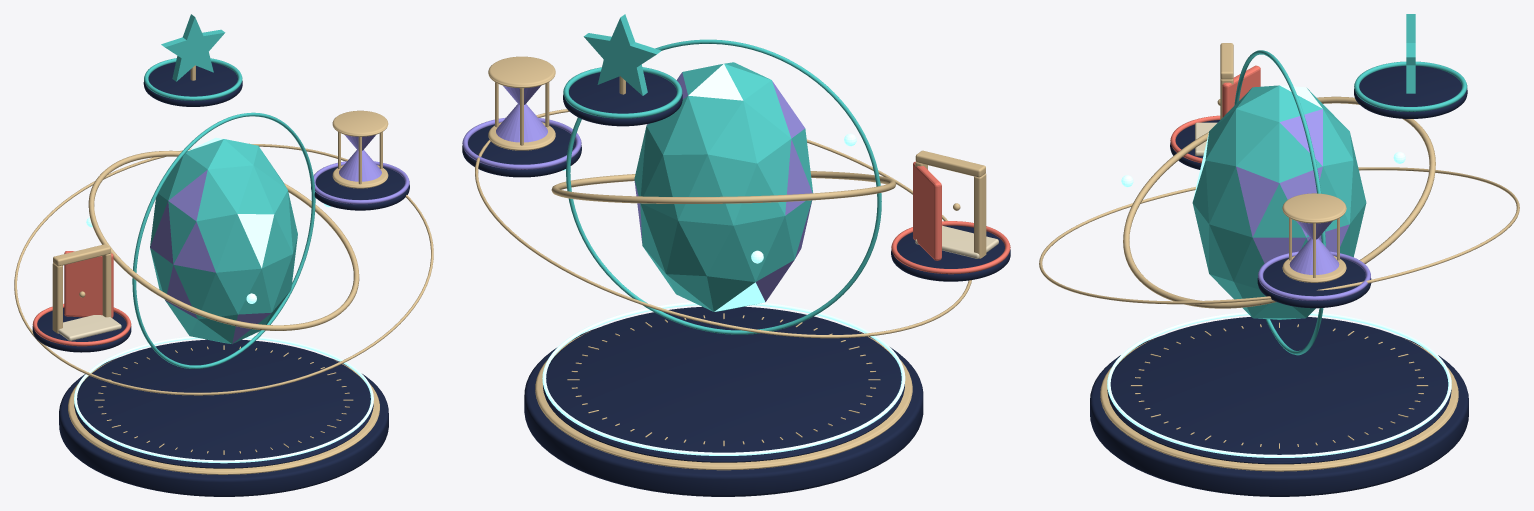
Rendered from story-atlas.glb.
The picture shows the model from 3 angles, left to right: view 1: azimuth 30°, elevation 25°; view 2: azimuth 150°, elevation 25°; view 3: azimuth 270°, elevation 25°; orthographic projection. The views are drawn at different scales.
Parts seen in each view (by area): view 1: StoryAtlas_Atlas_Midnight, Mindstone_Core, StoryAtlas_Atlas_Champagne, Avoidance_Atlas_Coral, Meridian_orbit, Perfectionism_base, Perfectionism_Atlas_Jade, StoryAtlas_Atlas_Light, Procrastination_Atlas_Champagne, Procrastination_base, Avoidance_Atlas_Champagne, Procrastination_Atlas_Lilac (+2 smaller); view 2: StoryAtlas_Atlas_Midnight, Mindstone_Core, StoryAtlas_Atlas_Champagne, Perfectionism_base, Meridian_orbit, Perfectionism_Atlas_Jade, Avoidance_Atlas_Coral, StoryAtlas_Atlas_Light, Procrastination_Atlas_Champagne, Procrastination_base, Avoidance_base, Procrastination_Atlas_Lilac (+2 smaller); view 3: StoryAtlas_Atlas_Midnight, Mindstone_Core, StoryAtlas_Atlas_Champagne, Perfectionism_base, StoryAtlas_Atlas_Light, Procrastination_base, Procrastination_Atlas_Champagne, Procrastination_Atlas_Lilac, Perfectionism_Atlas_Jade, Meridian_orbit, Avoidance_Atlas_Coral, Avoidance_Atlas_Champagne (+1 smaller).
Part boxes in pixels (x1=…): StoryAtlas_Atlas_Midnight: x1=59, y1=339, x2=388, y2=496; Mindstone_Core: x1=150, y1=137, x2=297, y2=343; StoryAtlas_Atlas_Champagne: x1=14, y1=143, x2=433, y2=474; Avoidance_Atlas_Coral: x1=32, y1=251, x2=131, y2=346; Meridian_orbit: x1=132, y1=112, x2=315, y2=368; Perfectionism_base: x1=143, y1=62, x2=242, y2=106; Perfectionism_Atlas_Jade: x1=144, y1=14, x2=242, y2=100; StoryAtlas_Atlas_Light: x1=74, y1=203, x2=373, y2=463; Procrastination_Atlas_Champagne: x1=332, y1=110, x2=388, y2=188; Procrastination_base: x1=311, y1=167, x2=409, y2=210; Avoidance_Atlas_Champagne: x1=52, y1=244, x2=111, y2=333; Procrastination_Atlas_Lilac: x1=313, y1=134, x2=409, y2=204; StoryAtlas_Atlas_Midnight: x1=524, y1=306, x2=923, y2=496; Mindstone_Core: x1=634, y1=62, x2=812, y2=311; StoryAtlas_Atlas_Champagne: x1=475, y1=109, x2=971, y2=470; Perfectionism_base: x1=563, y1=72, x2=682, y2=126; Meridian_orbit: x1=566, y1=39, x2=881, y2=334; Perfectionism_Atlas_Jade: x1=563, y1=14, x2=682, y2=118; Avoidance_Atlas_Coral: x1=891, y1=161, x2=1010, y2=274; StoryAtlas_Atlas_Light: x1=542, y1=133, x2=905, y2=455; Procrastination_Atlas_Champagne: x1=488, y1=56, x2=555, y2=150; Procrastination_base: x1=462, y1=124, x2=581, y2=177; Avoidance_base: x1=891, y1=225, x2=1010, y2=281; Procrastination_Atlas_Lilac: x1=462, y1=85, x2=581, y2=169; StoryAtlas_Atlas_Midnight: x1=1090, y1=317, x2=1468, y2=496; Mindstone_Core: x1=1192, y1=85, x2=1366, y2=319; StoryAtlas_Atlas_Champagne: x1=1039, y1=96, x2=1519, y2=471; Perfectionism_base: x1=1354, y1=66, x2=1467, y2=118; StoryAtlas_Atlas_Light: x1=1107, y1=151, x2=1451, y2=457; Procrastination_base: x1=1257, y1=258, x2=1371, y2=308; Procrastination_Atlas_Champagne: x1=1282, y1=193, x2=1346, y2=282; Procrastination_Atlas_Lilac: x1=1258, y1=221, x2=1370, y2=300; Perfectionism_Atlas_Jade: x1=1354, y1=14, x2=1467, y2=111; Meridian_orbit: x1=1234, y1=50, x2=1325, y2=355; Avoidance_Atlas_Coral: x1=1170, y1=65, x2=1260, y2=163; Avoidance_Atlas_Champagne: x1=1217, y1=43, x2=1233, y2=119.
Bounding box in the file's own units: 3.66 × 3.17 × 3.3.
